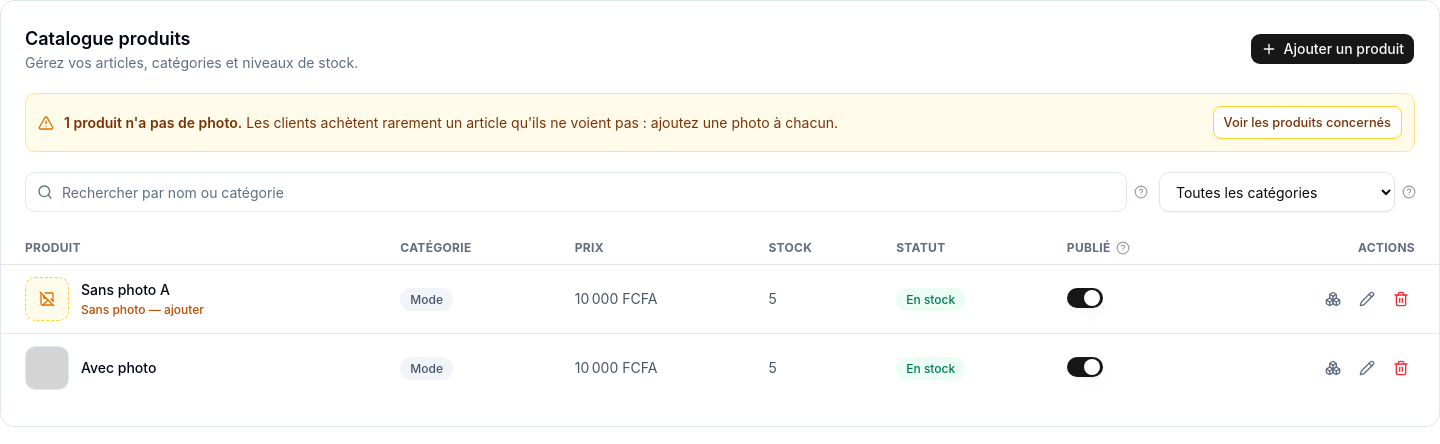
Test case: ProductList › produits sans photo › cannot be dismissed, but can narrow the table to the affected products
Click the button "Voir les produits concernés": point(1307, 123) top-left (1213, 106), bottom-right (1402, 139)
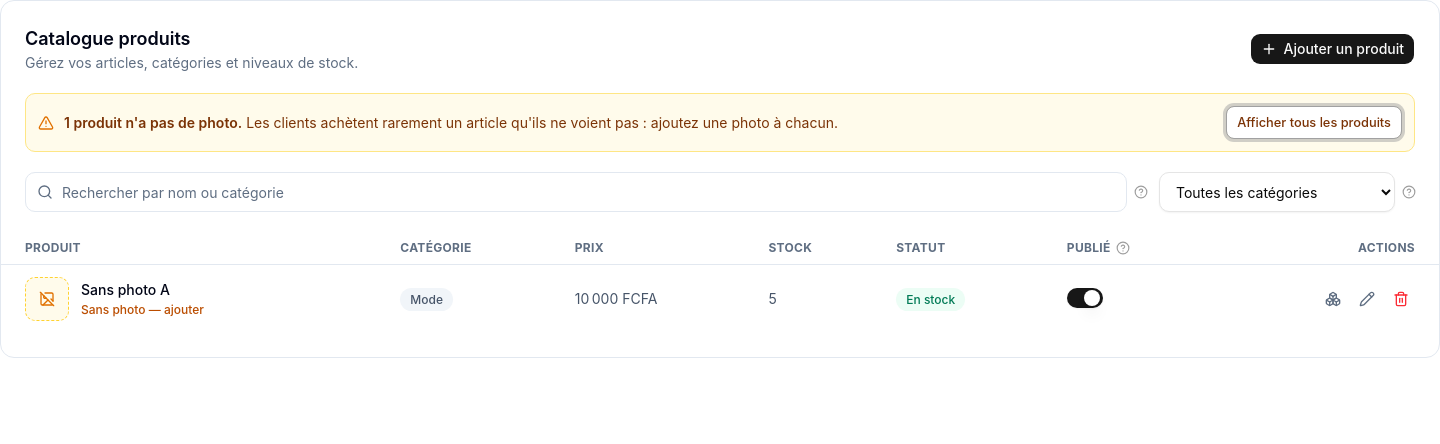
expect the text "Sans photo A" is shown: met, box top-left (81, 280), bottom-right (170, 300)
expect the text "Avec photo" is gone: met
Click the button "Afficher tous les produits": point(1314, 123) top-left (1226, 106), bottom-right (1402, 139)
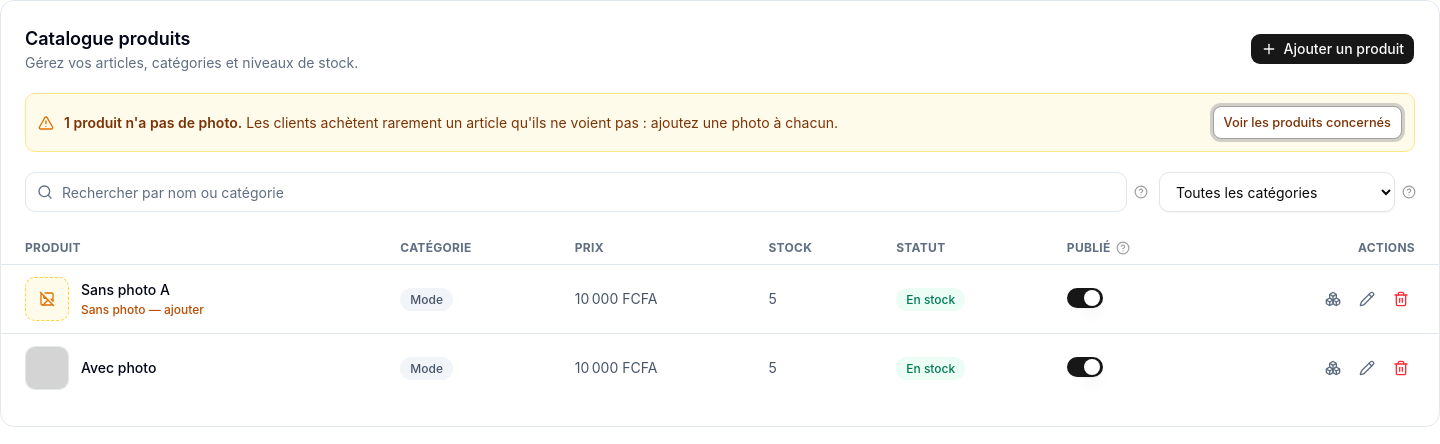
expect the text "Avec photo" is shown: met, box top-left (81, 358), bottom-right (156, 378)
